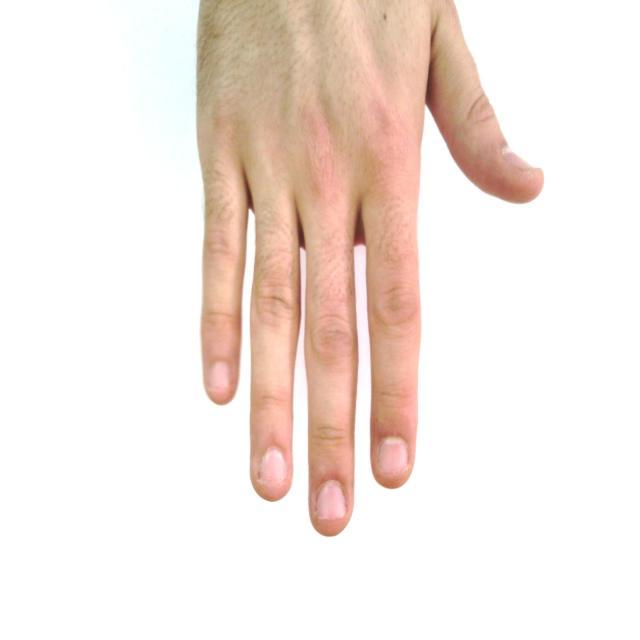Fingernail: (318, 483, 346, 520), (379, 439, 407, 475), (260, 450, 286, 485), (505, 149, 537, 171), (209, 363, 230, 390)
